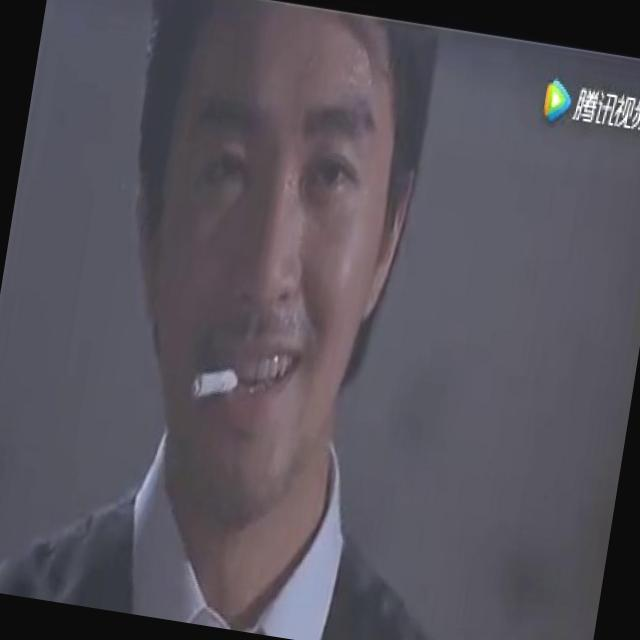smoke: (178, 335, 250, 421)
